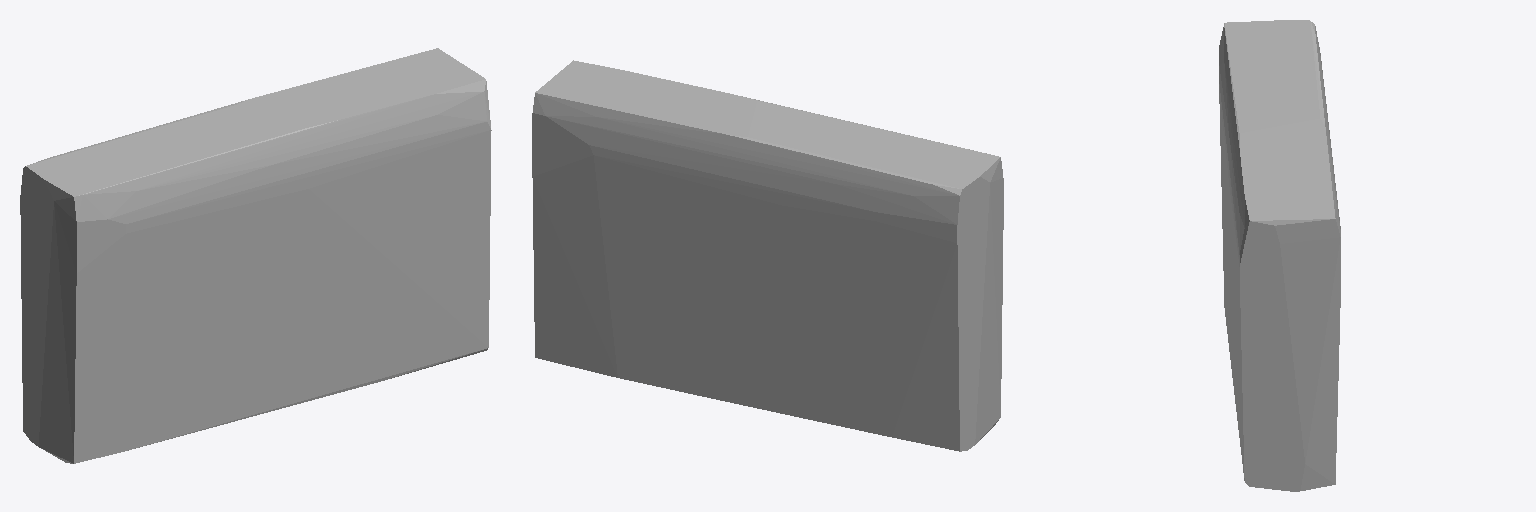
robot.urdf — root:
<robot name="root">
  <link name="link_other~book_convex_piece_0">
    <inertial>
      <origin rpy="0 0 0" xyz="0 0 0"/>
      <mass value="2.98E+00"/>
      <inertia ixx="3.97E-03" ixy="4.20E-04" ixz="5.48E-05" iyy="1.31E-02" iyz="-3.82E-06" izz="9.94E-03"/>
    </inertial>
    <visual>
      <origin rpy="0 0 0" xyz="0 0 0"/>
      <geometry>
        <mesh filename="other~book_convex_piece_0.obj" scale="1.0000E+00 1.0000E+00 1.0000E+00"/>
      </geometry>
      <material name="">
        <color rgba="7.50E-01 7.50E-01 7.50E-01 1"/>
      </material>
    </visual>
    <collision>
      <origin rpy="0 0 0" xyz="0 0 0"/>
      <geometry>
        <mesh filename="other~book_convex_piece_0.obj" scale="1.0000E+00 1.0000E+00 1.0000E+00"/>
      </geometry>
    </collision>
  </link>
</robot>

--- Facts derived from the render (not from the file) ---
Views: 3 orthographic renders of the robot side by side, from view 1: azimuth 30°, elevation 25°; view 2: azimuth 150°, elevation 25°; view 3: azimuth 270°, elevation 25°.
Model root with 1 links and 0 joints (none), rooted at link_other~book_convex_piece_0, posed all joints at 0.
Links seen in each view (by area): view 1: link_other~book_convex_piece_0; view 2: link_other~book_convex_piece_0; view 3: link_other~book_convex_piece_0.
Boxes of the visible links, x1=… form: link_other~book_convex_piece_0: x1=20, y1=48, x2=491, y2=463; link_other~book_convex_piece_0: x1=532, y1=60, x2=1003, y2=451; link_other~book_convex_piece_0: x1=1219, y1=20, x2=1340, y2=491.
Bounding box of the posed robot: 0.1977 × 0.0494 × 0.1215 m (x, y, z).
Meshes: 1 distinct files referenced, 1 mesh visuals loaded (1 OBJ).
